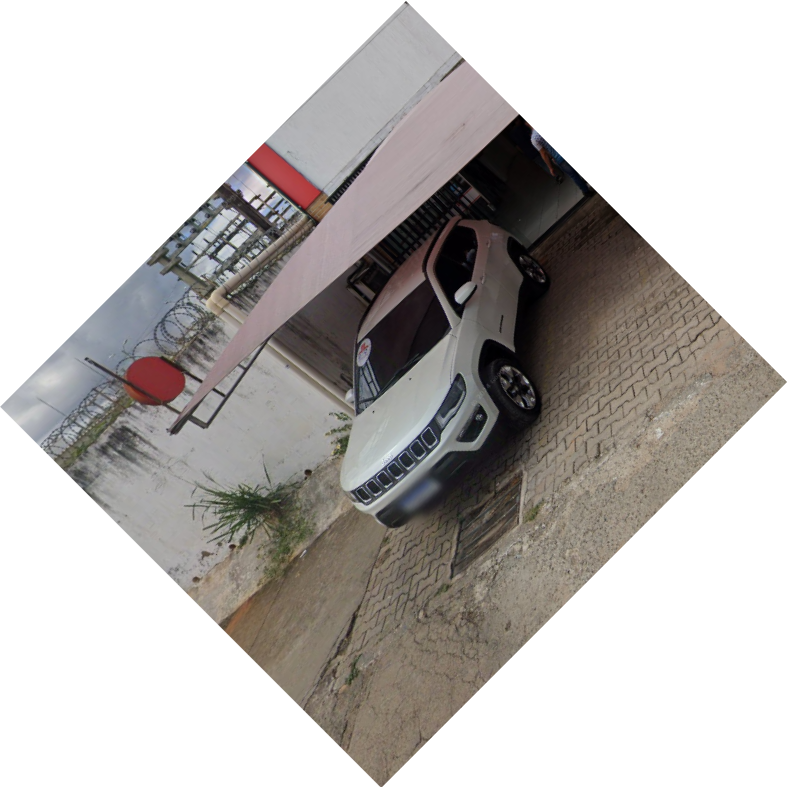car: (331, 213, 554, 537)
